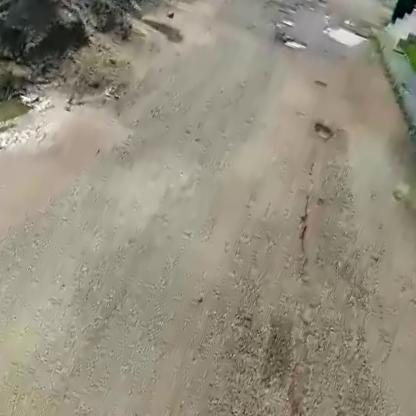pothole: (321, 19, 370, 52), (309, 120, 337, 145), (277, 31, 307, 53)
